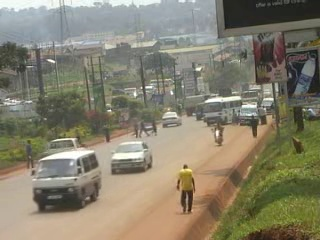Car: (109, 139, 157, 175), (162, 108, 184, 128), (194, 101, 206, 120)
Motorcycle: (211, 121, 225, 146)
